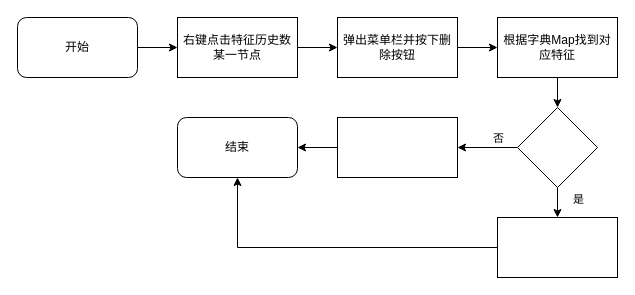
Some shapes in this 635 by 295 pixel diagram are drawn without their labels. Each missing label, with the centre of its shape:
"弹出提示对话框提示删除失败" goes at point (557, 247).
"特征容器删除特征并更新视图" goes at point (397, 147).
"特征是否 被依赖" goes at point (557, 147).
